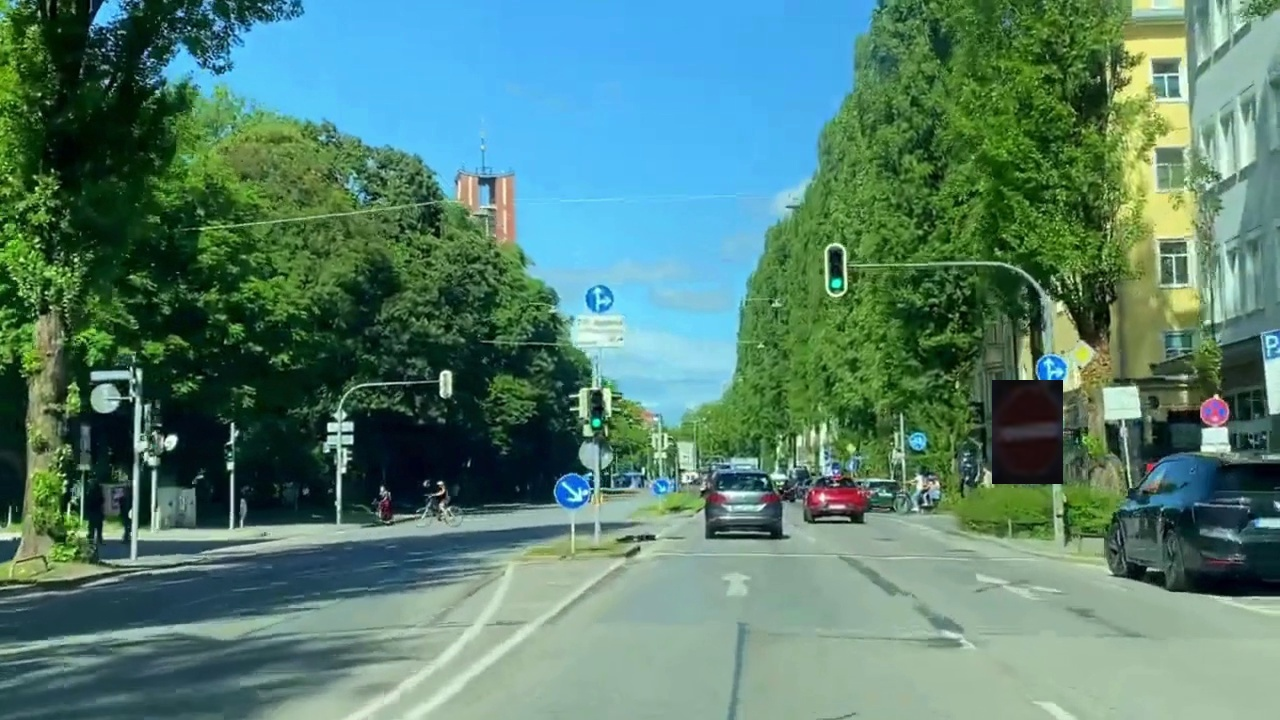No entry: (992, 380, 1063, 484)
